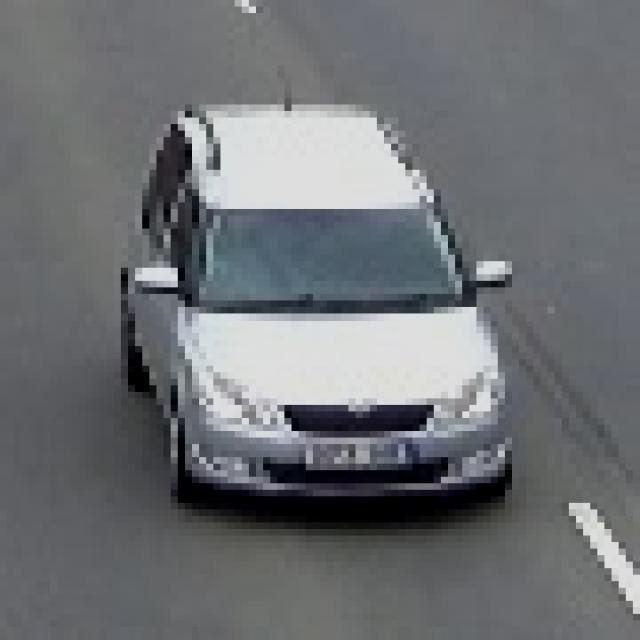SUV: (136, 118, 498, 497)
